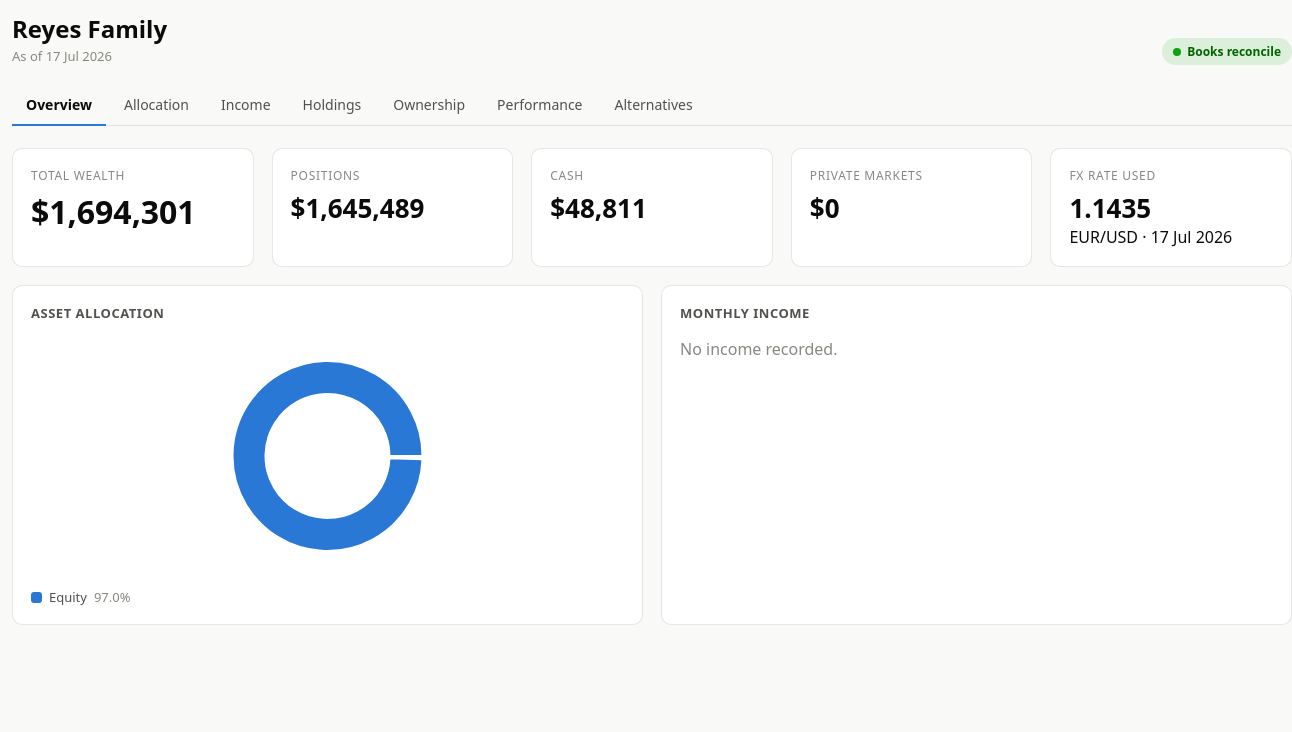
Scenario: ClientDashboard › surfaces the shared account and its co-owner on the ownership tab
Click the tab "Ownership": {"x": 429, "y": 106} [379, 85, 479, 126]
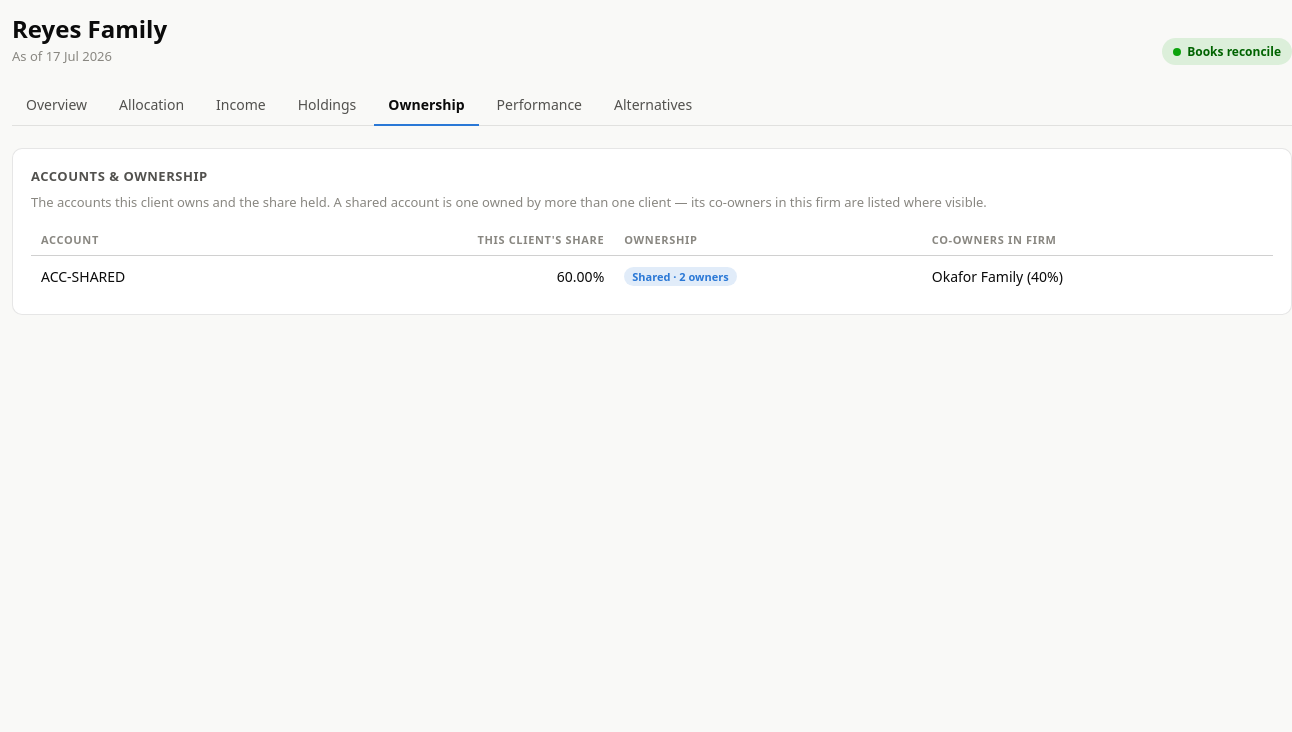
Expected: the text "ACC-SHARED" is shown, [31, 256, 273, 296]
Expected: the text "60.00%" is shown, [273, 256, 614, 296]
Expected: the text "Shared · 2 owners" is shown, [624, 267, 737, 286]
